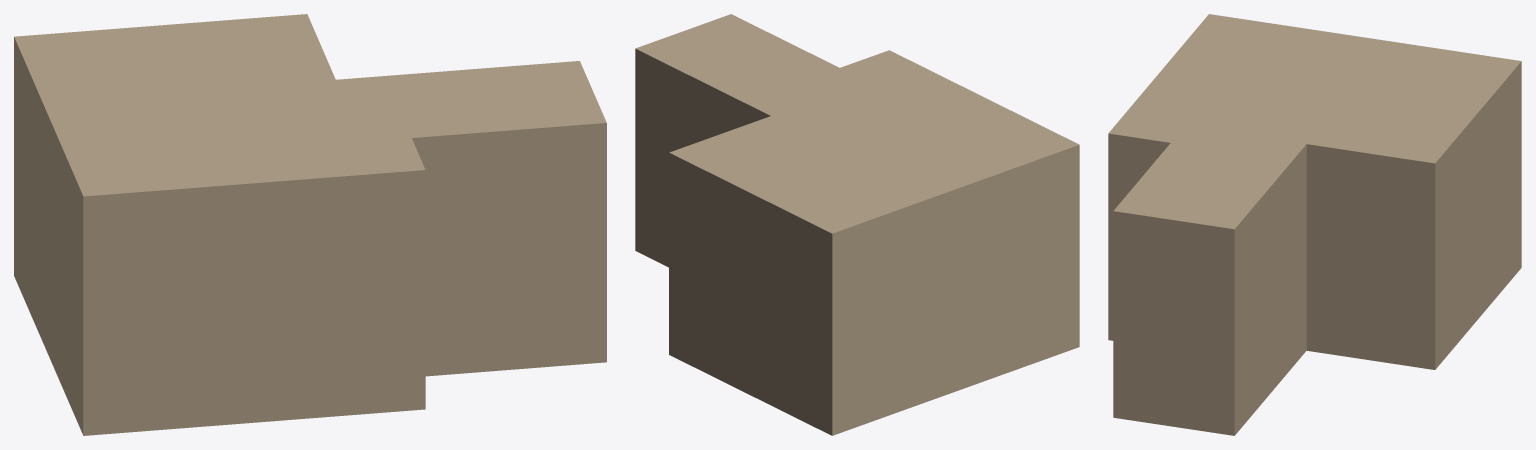
File: bld_101524546.dae
3 views of the same model, side by side, from view 1: azimuth 30°, elevation 25°; view 2: azimuth 150°, elevation 25°; view 3: azimuth 270°, elevation 25° (orthographic). The views are drawn at different scales.
Parts seen in each view (by area): view 1: bld_101524546; view 2: bld_101524546; view 3: bld_101524546.
Part boxes in pixels (x1,y1,x2,y2): bld_101524546: [14, 14, 606, 435]; bld_101524546: [635, 14, 1079, 435]; bld_101524546: [1108, 14, 1521, 435].
Bounding box in the file's own units: 17.88 × 14.5 × 8.
